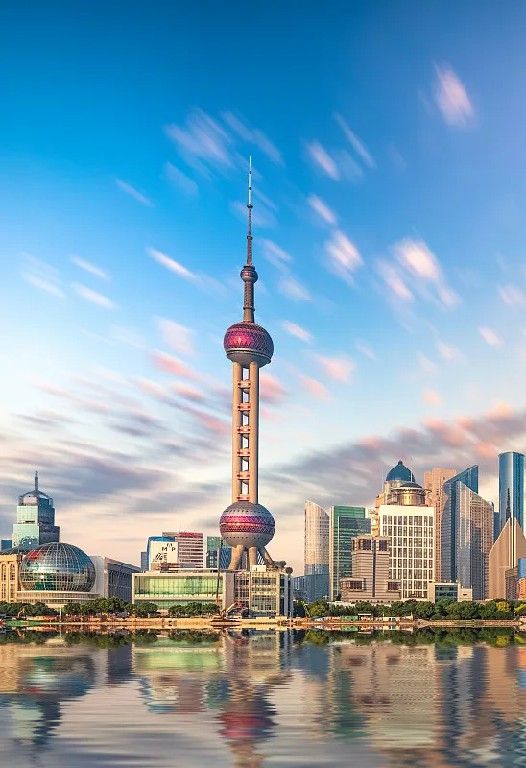Oriental: (219, 154, 276, 568)
